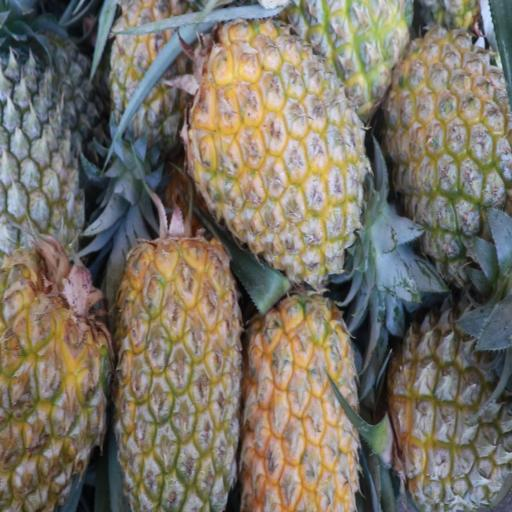------------------------------: (396, 33, 509, 282), (394, 301, 512, 511), (108, 0, 202, 149)
Pineapple - v8 v1: (199, 16, 364, 276), (117, 240, 239, 510), (0, 247, 115, 512), (248, 294, 356, 512), (307, 0, 413, 105)
